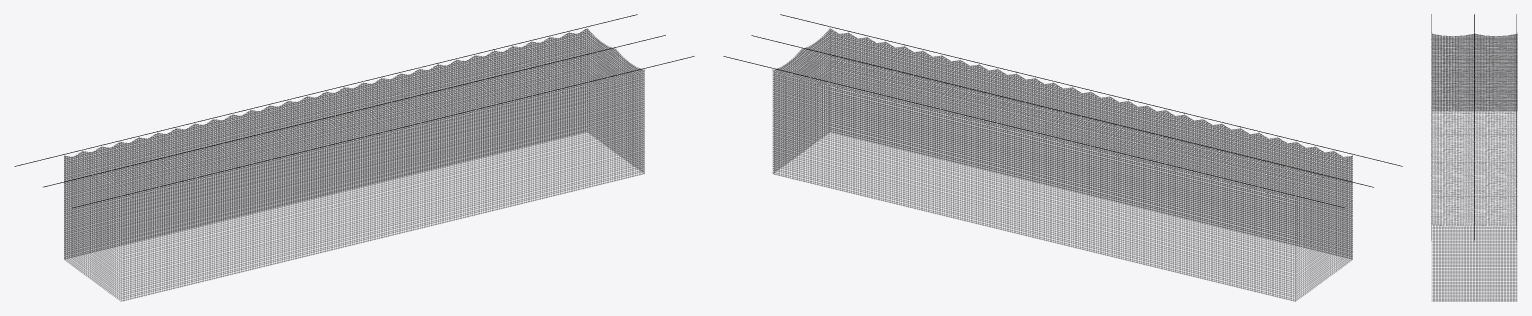
Rendered from CurtainCage Easy Slide.glb.
3 views of the same model, side by side, from view 1: azimuth 30°, elevation 25°; view 2: azimuth 150°, elevation 25°; view 3: azimuth 270°, elevation 25° (orthographic). The views are drawn at different scales.
Parts seen in each view (by area): view 1: Cylinder.108; view 2: Cylinder.108; view 3: Cylinder.108.
Boxes of the visible parts, bbox=[...] form: Cylinder.108: bbox=[14, 14, 694, 301]; Cylinder.108: bbox=[723, 14, 1402, 301]; Cylinder.108: bbox=[1431, 14, 1517, 301].
Size of the model in its own units: 25 by 4.09 by 4.01.
Materials: 3 (1 with a texture image).
